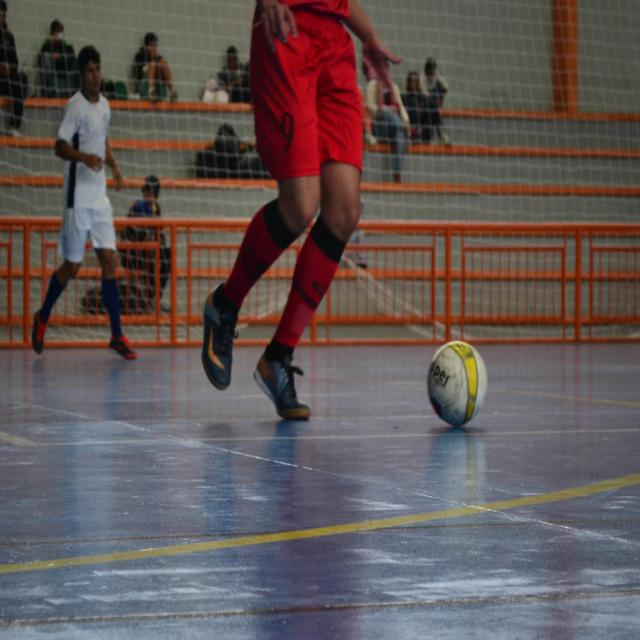Ball: (427, 341, 488, 425)
